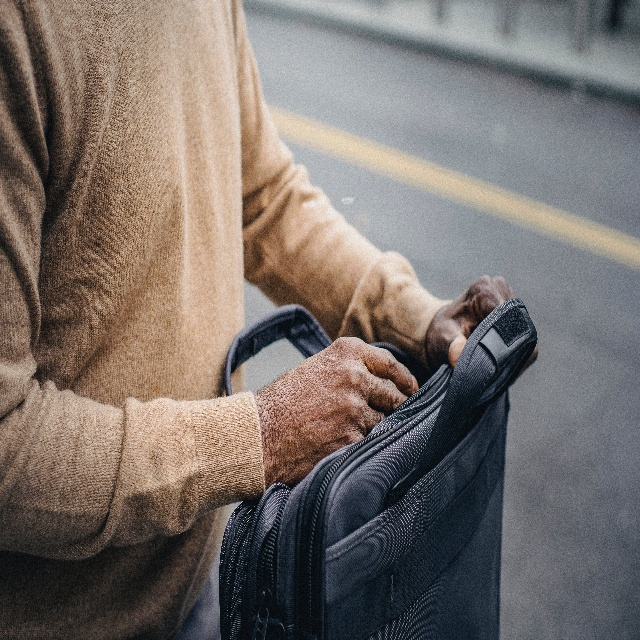Sin_guantes: (259, 334, 421, 483), (425, 274, 541, 379)
